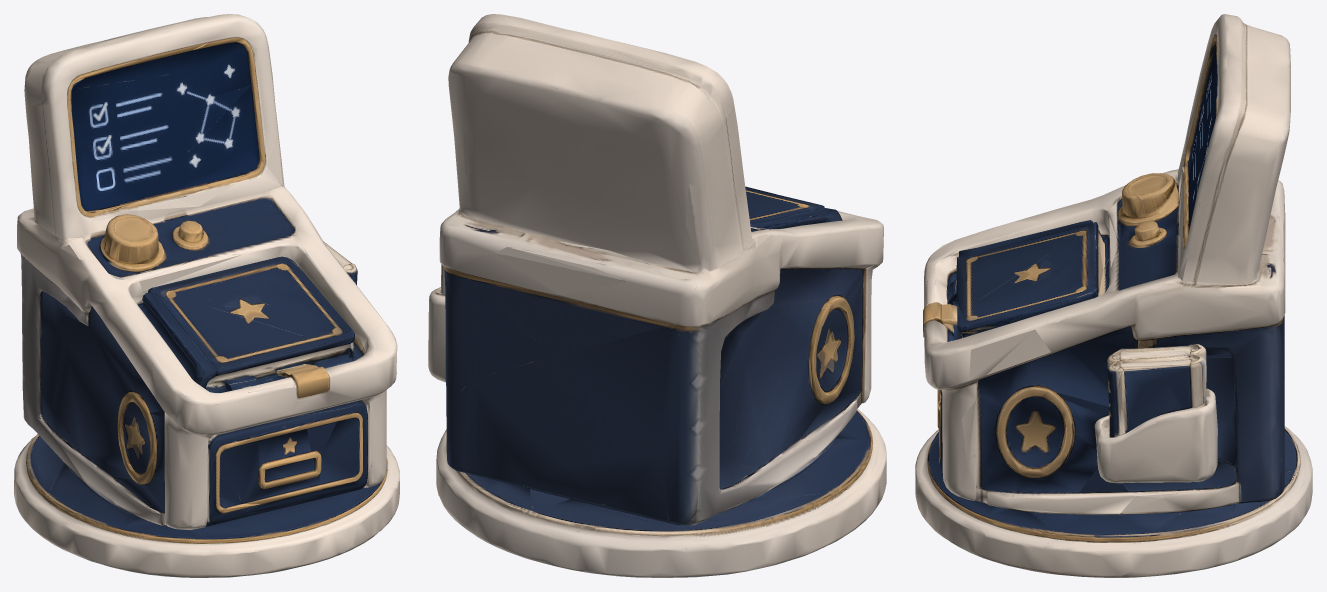
The model's file is keeper-station-model-candidate-01.glb.
3 renders of one model, left to right at view 1: azimuth 30°, elevation 25°; view 2: azimuth 150°, elevation 25°; view 3: azimuth 270°, elevation 25°, orthographic. The views are drawn at different scales.
Visible parts, largest first — view 1: mesh_node; view 2: mesh_node; view 3: mesh_node.
Part boxes in pixels (x1=…): mesh_node: x1=14, y1=14, x2=399, y2=577; mesh_node: x1=428, y1=14, x2=886, y2=577; mesh_node: x1=915, y1=14, x2=1312, y2=577.
Size of the model in its own units: 1.64 by 2 by 1.64.
1 material, 1 textured.
